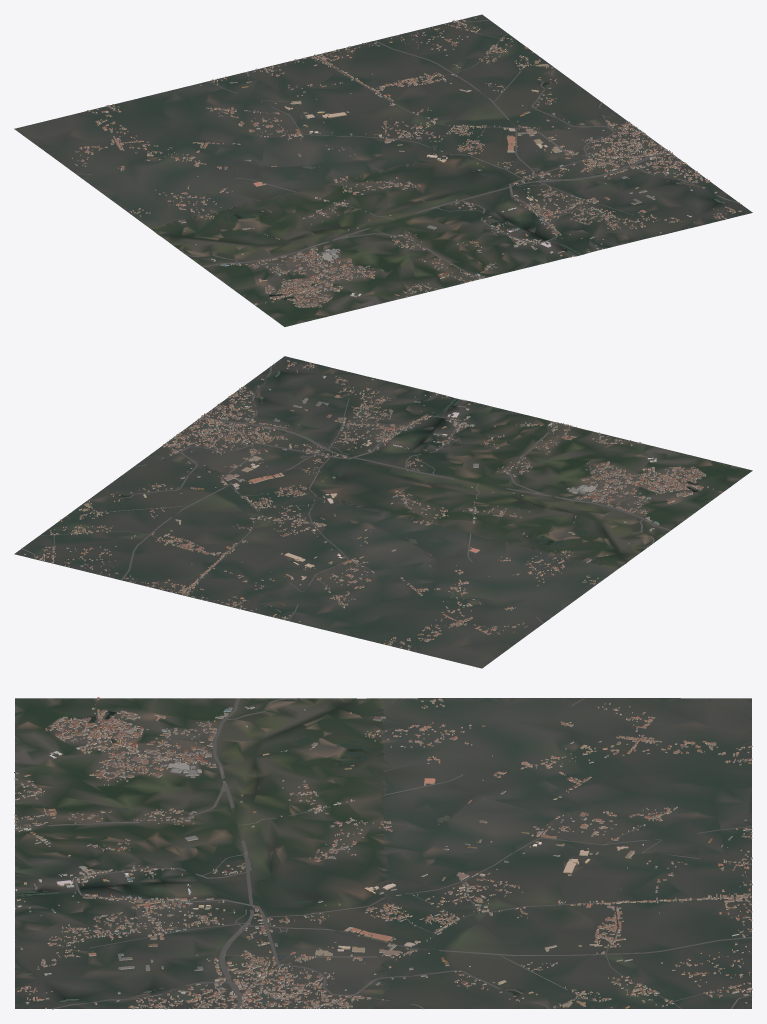
3 renders of one model, top to bottom at view 1: azimuth 30°, elevation 25°; view 2: azimuth 150°, elevation 25°; view 3: azimuth 270°, elevation 25°, orthographic. The views are drawn at different scales.
Parts seen in each view (by area): view 1: ground, buildings, roads, water; view 2: ground, buildings, roads, water; view 3: ground, buildings, roads, water.
Boxes of the visible parts, x1,y1,x2,y2 form: ground: [14, 14, 752, 326]; buildings: [72, 17, 741, 307]; roads: [76, 19, 739, 305]; water: [148, 84, 725, 298]; ground: [14, 356, 752, 668]; buildings: [24, 360, 722, 650]; roads: [21, 366, 722, 645]; water: [123, 370, 698, 606]; ground: [15, 698, 751, 1008]; buildings: [14, 697, 752, 1009]; roads: [14, 698, 751, 1009]; water: [15, 698, 676, 1008].
Bounding box in the file's own units: 5613 × 36.03 × 5622.
